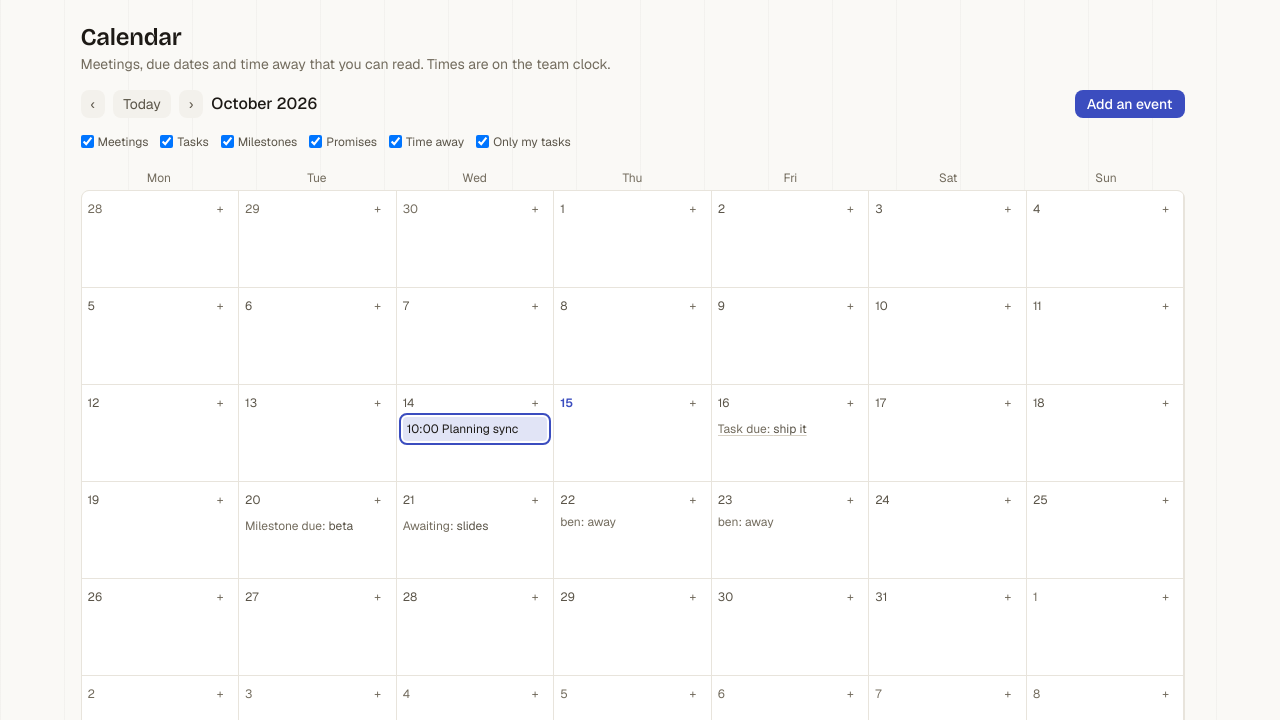
Test: the Calendar page › opens an event in a dialog and gives focus back on Escape
Click the button "10:00 Planning sync": click(475, 429) [403,417,547,441]
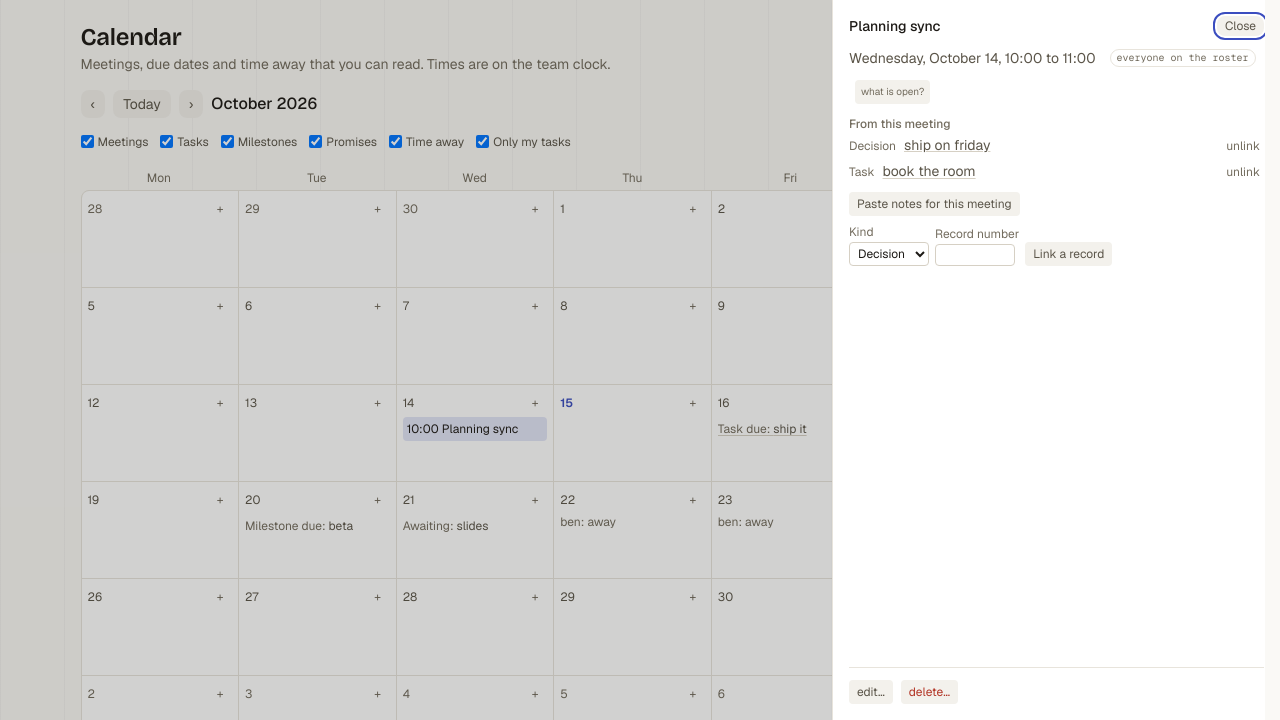
Result: the text "Wednesday, October 14, 10:00 to 11:00" is shown at [849,48,1096,68]
Press Escape
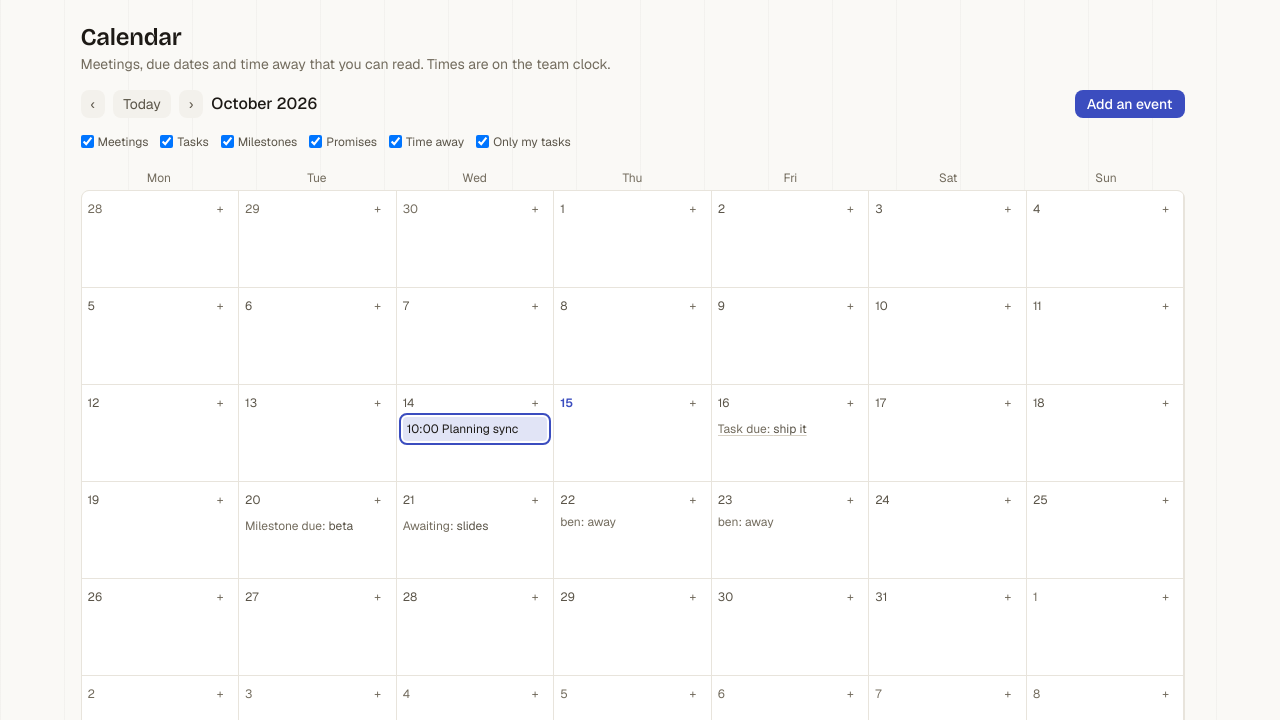
Result: the dialog is gone
